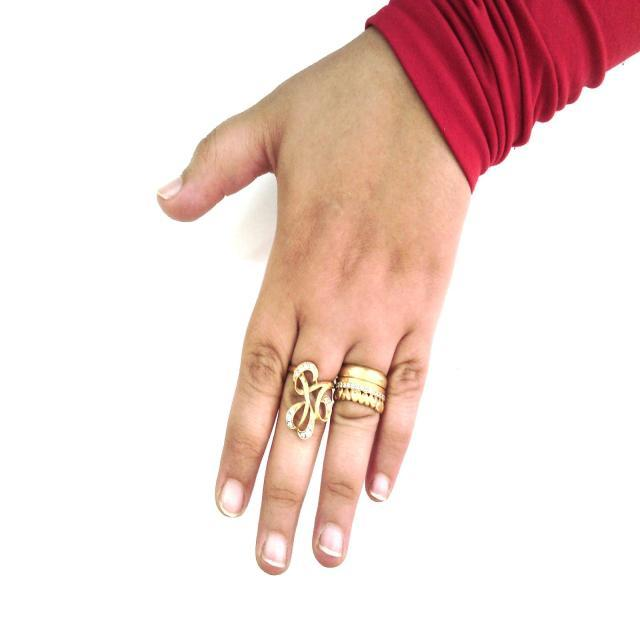Fingernail: (220, 480, 243, 516), (263, 533, 287, 566), (319, 524, 343, 557), (370, 474, 389, 500), (158, 178, 181, 198)
